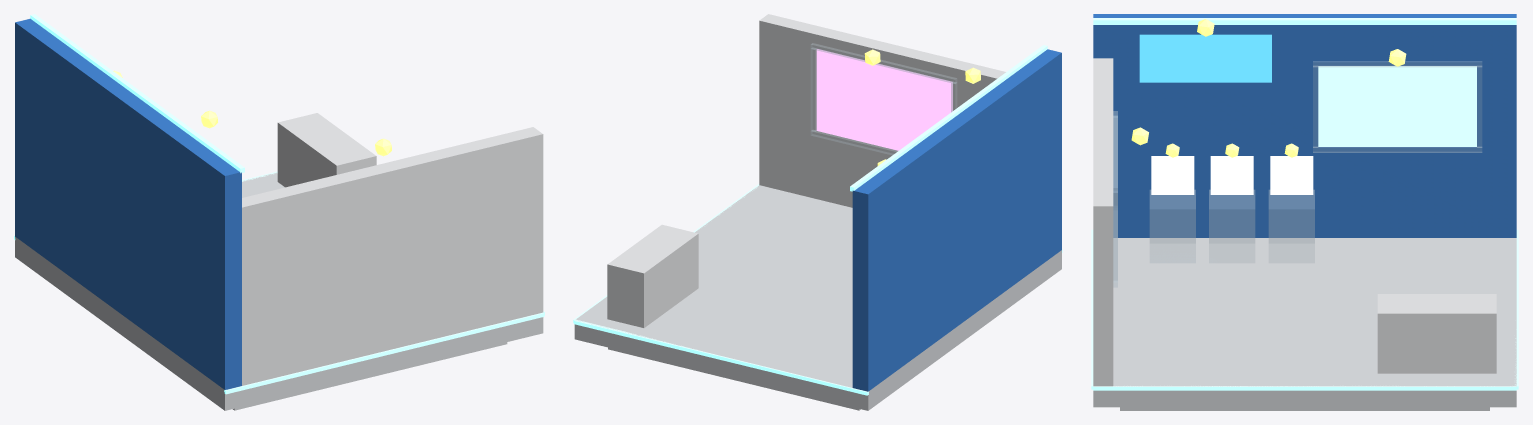
File: Booth_Basic_T01.glb
3 views of the same model, side by side, from view 1: azimuth 30°, elevation 25°; view 2: azimuth 150°, elevation 25°; view 3: azimuth 270°, elevation 25° (orthographic). The views are drawn at different scales.
Parts seen in each view (by area): view 1: Booth_Basic_T01__Color__Secondary, Booth_Basic_T01__Color__Primary, Booth_Basic_T01__Anti_gravity, Booth_Basic_T01__Glowing_line, Booth_Basic_T01; view 2: Booth_Basic_T01__Color__Primary, Booth_Basic_T01__Anti_gravity, Booth_Basic_T01__Color__Secondary, Booth_Basic_T01__Image_02__Display, Booth_Basic_T01__Glowing_line, Booth_Basic_T01; view 3: Booth_Basic_T01__Color__Primary, Booth_Basic_T01__Anti_gravity, Booth_Basic_T01__Color__Secondary, Booth_Basic_T01__Image_01__Display, Booth_Basic_T01__Frame_003__Product, Booth_Basic_T01__Logo_01__Display, Booth_Basic_T01__Glowing_line, Booth_Basic_T01, Booth_Basic_T01__Product_01__Display, Booth_Basic_T01__Product_03__Display, Booth_Basic_T01__Product_02__Display.
Part boxes in pixels (x1,y1,x2,y2): Booth_Basic_T01__Color__Secondary: (242,113,543,385); Booth_Basic_T01__Color__Primary: (15,18,241,389); Booth_Basic_T01__Anti_gravity: (15,172,543,410); Booth_Basic_T01__Glowing_line: (14,14,544,394); Booth_Basic_T01: (113,70,391,156); Booth_Basic_T01__Color__Primary: (852,49,1061,391); Booth_Basic_T01__Anti_gravity: (574,185,1061,410); Booth_Basic_T01__Color__Secondary: (607,14,1005,327); Booth_Basic_T01__Image_02__Display: (816,49,952,150); Booth_Basic_T01__Glowing_line: (573,45,1062,395); Booth_Basic_T01: (810,43,980,165); Booth_Basic_T01__Color__Primary: (1093,14,1516,237); Booth_Basic_T01__Anti_gravity: (1093,238,1516,410); Booth_Basic_T01__Color__Secondary: (1093,58,1496,386); Booth_Basic_T01__Image_01__Display: (1318,66,1476,146); Booth_Basic_T01__Frame_003__Product: (1150,190,1314,262); Booth_Basic_T01__Logo_01__Display: (1139,34,1271,82); Booth_Basic_T01__Glowing_line: (1091,18,1518,390); Booth_Basic_T01: (1113,19,1482,287); Booth_Basic_T01__Product_01__Display: (1151,156,1194,194); Booth_Basic_T01__Product_03__Display: (1270,156,1313,194); Booth_Basic_T01__Product_02__Display: (1210,156,1253,194).
Size of the model in its own units: 5.63 by 4.45 by 6.46.
